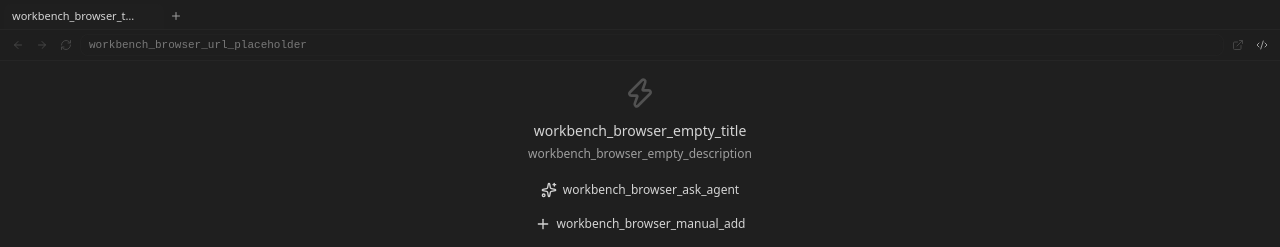
BrowserTab — múltiplas abas › clicar em '+' cria uma aba nova em branco e a foca (nenhuma URL carregada ainda)
Click the button titled "workbench_browser_new_tab" at (176, 16), box [166,6,186,26]
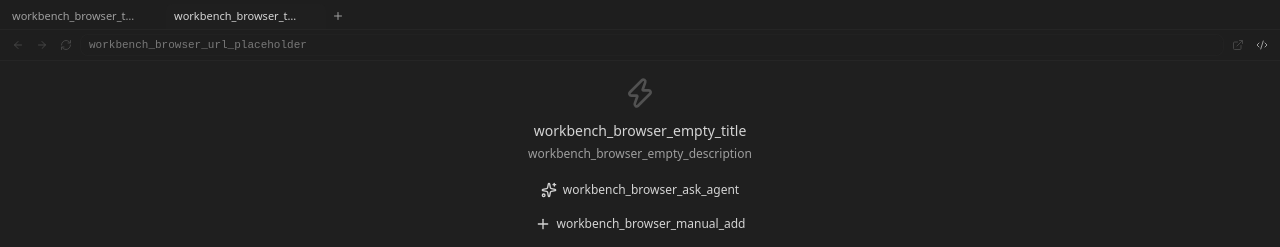
Check: the number of elements with test id "browser-tab-strip-item" is 2, box [4,4,164,28]; [166,4,326,28]
